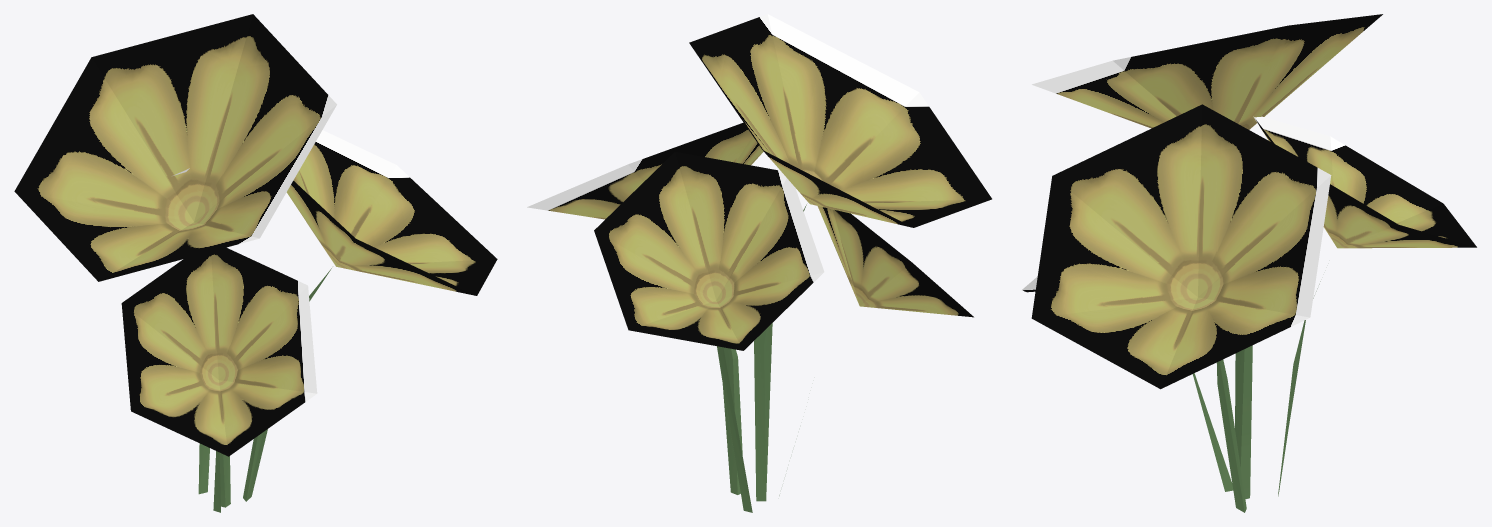
File: Flower_2_Clump.glb
3 views of the same model, side by side, from view 1: azimuth 30°, elevation 25°; view 2: azimuth 150°, elevation 25°; view 3: azimuth 270°, elevation 25° (orthographic). The views are drawn at different scales.
Bounding box in the file's own units: 0.426 × 0.4508 × 0.3735.
1 material, 1 textured.
